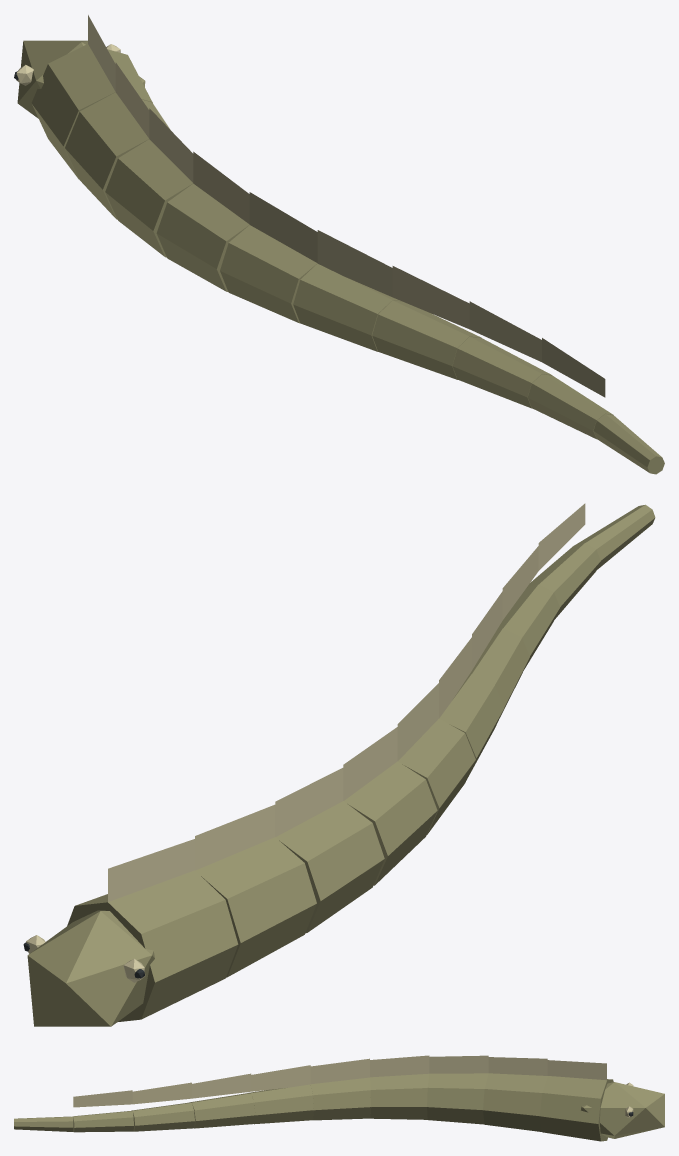
File: Eel.fbx
3 renders of one model, top to bottom at view 1: azimuth 30°, elevation 25°; view 2: azimuth 150°, elevation 25°; view 3: azimuth 270°, elevation 25°, orthographic. The views are drawn at different scales.
Parts seen in each view (by area): view 1: Segment0, Segment3, Segment4, Segment2, Segment1, Segment5, Segment6, Segment7, Segment8, RibbonFin5, RibbonFin6, RibbonFin4 (+8 smaller); view 2: Segment0, Head, Segment1, Segment2, Segment3, Segment4, Segment5, RibbonFin0, RibbonFin1, Segment6, Segment7, RibbonFin2 (+8 smaller); view 3: Segment0, Segment1, Head, Segment2, Segment3, Segment4, Segment5, Segment6, Segment7, Segment8, RibbonFin5, RibbonFin4 (+8 smaller).
Part boxes in pixels (x1=…): Segment0: x1=31, y1=44, x2=152, y2=179; Segment3: x1=156, y1=183, x2=249, y2=291; Segment4: x1=220, y1=225, x2=317, y2=323; Segment2: x1=105, y1=139, x2=193, y2=257; Segment1: x1=65, y1=92, x2=170, y2=219; Segment5: x1=293, y1=263, x2=401, y2=351; Segment6: x1=372, y1=300, x2=481, y2=379; Segment7: x1=452, y1=336, x2=552, y2=408; Segment8: x1=528, y1=374, x2=613, y2=439; RibbonFin5: x1=317, y1=230, x2=392, y2=297; RibbonFin6: x1=392, y1=266, x2=469, y2=329; RibbonFin4: x1=249, y1=192, x2=317, y2=262; Segment0: x1=67, y1=870, x2=238, y2=1022; Head: x1=27, y1=910, x2=154, y2=1026; Segment1: x1=195, y1=837, x2=316, y2=977; Segment2: x1=275, y1=801, x2=384, y2=933; Segment3: x1=344, y1=761, x2=437, y2=885; Segment4: x1=398, y1=718, x2=475, y2=834; Segment5: x1=439, y1=674, x2=504, y2=776; RibbonFin0: x1=108, y1=839, x2=194, y2=901; RibbonFin1: x1=195, y1=804, x2=275, y2=870; Segment6: x1=470, y1=628, x2=529, y2=716; Segment7: x1=497, y1=584, x2=560, y2=669; RibbonFin2: x1=275, y1=768, x2=343, y2=836; Segment0: x1=540, y1=1076, x2=613, y2=1141; Segment1: x1=483, y1=1073, x2=547, y2=1131; Head: x1=581, y1=1082, x2=664, y2=1138; Segment2: x1=427, y1=1073, x2=488, y2=1124; Segment3: x1=370, y1=1073, x2=428, y2=1119; Segment4: x1=310, y1=1077, x2=370, y2=1120; Segment5: x1=248, y1=1084, x2=313, y2=1124; Segment6: x1=189, y1=1093, x2=255, y2=1128; Segment7: x1=131, y1=1102, x2=194, y2=1131; Segment8: x1=73, y1=1111, x2=133, y2=1132; RibbonFin5: x1=251, y1=1065, x2=310, y2=1091; RibbonFin4: x1=310, y1=1058, x2=369, y2=1084.
Bounding box in the file's own units: 0.2683 × 0.23 × 1.76.
